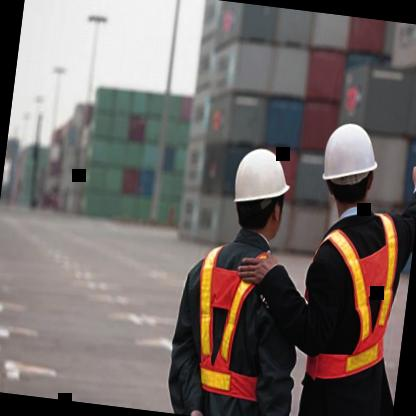helmet: (308, 111, 390, 227), (222, 135, 300, 254)
